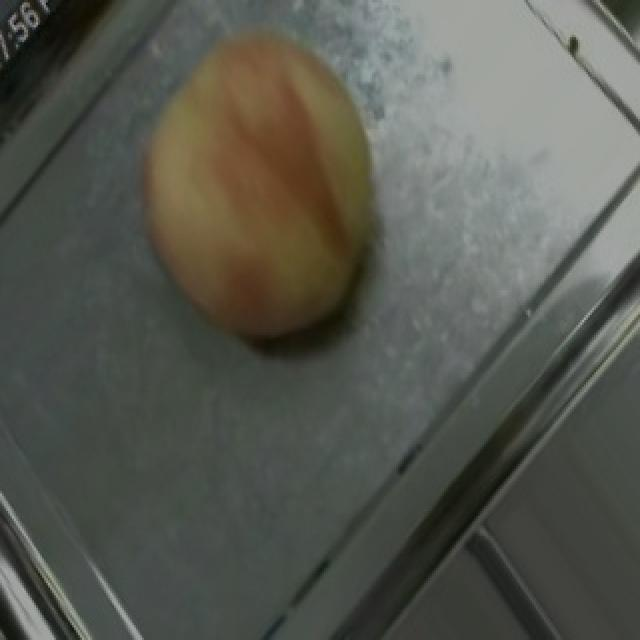Fruit: (90, 0, 430, 384)
